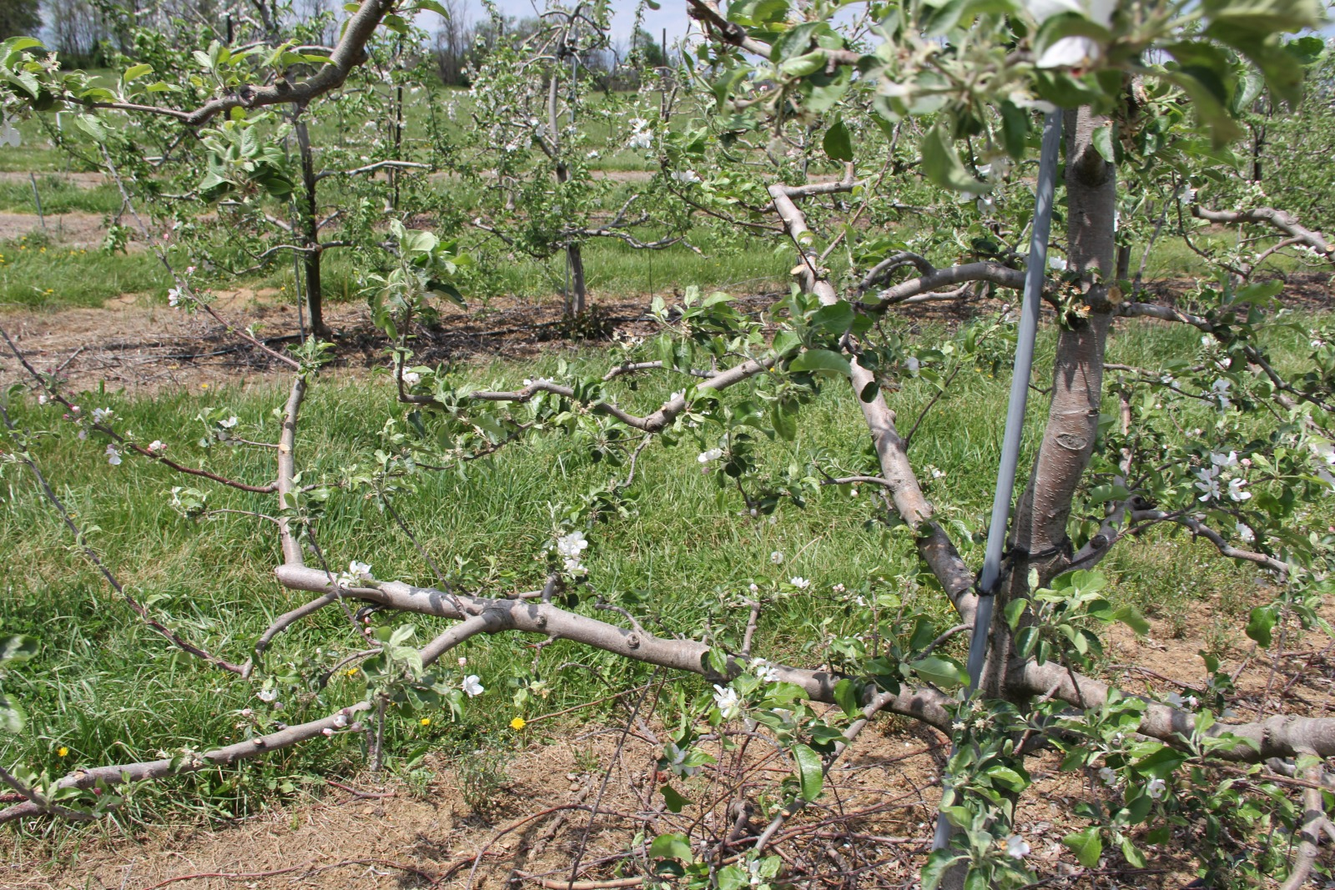flower: (1196, 450, 1242, 502), (558, 530, 588, 573), (1042, 38, 1085, 64), (713, 685, 741, 718), (1028, 0, 1069, 22), (626, 118, 654, 149), (0, 116, 22, 148), (1211, 379, 1233, 410), (1226, 478, 1253, 502), (457, 675, 485, 698), (1309, 442, 1335, 466), (1005, 835, 1031, 859), (1092, 0, 1116, 25), (697, 448, 729, 465), (757, 662, 782, 681), (1147, 774, 1166, 799), (1168, 692, 1197, 708), (350, 561, 373, 581), (1314, 466, 1335, 486), (672, 170, 701, 184), (103, 445, 123, 465), (1236, 520, 1255, 541), (168, 285, 186, 307), (402, 367, 421, 387), (1099, 767, 1119, 785), (92, 408, 114, 423), (1049, 256, 1068, 272), (791, 577, 811, 591), (257, 689, 278, 702), (905, 357, 919, 373), (218, 417, 237, 428), (148, 440, 163, 451), (754, 659, 767, 665)
